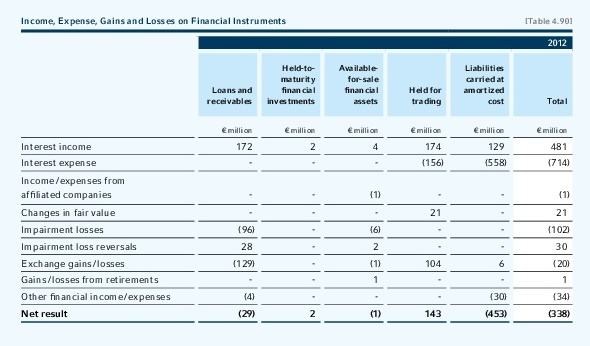table: (0, 0, 590, 346)
